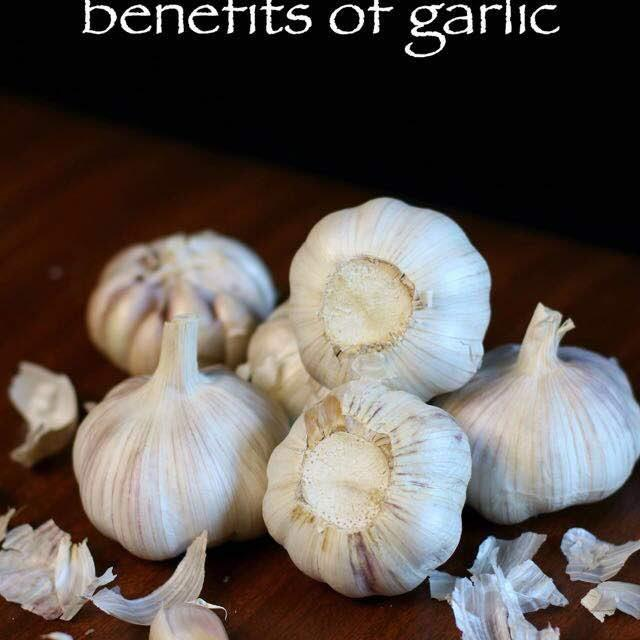garlic: (290, 191, 487, 397), (270, 390, 468, 594), (72, 358, 265, 541), (472, 326, 640, 509)
